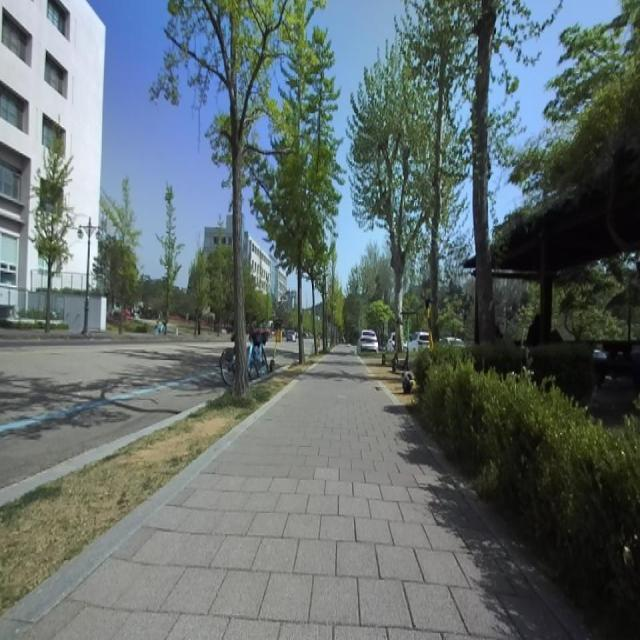sidewalk: (0, 346, 589, 639)
